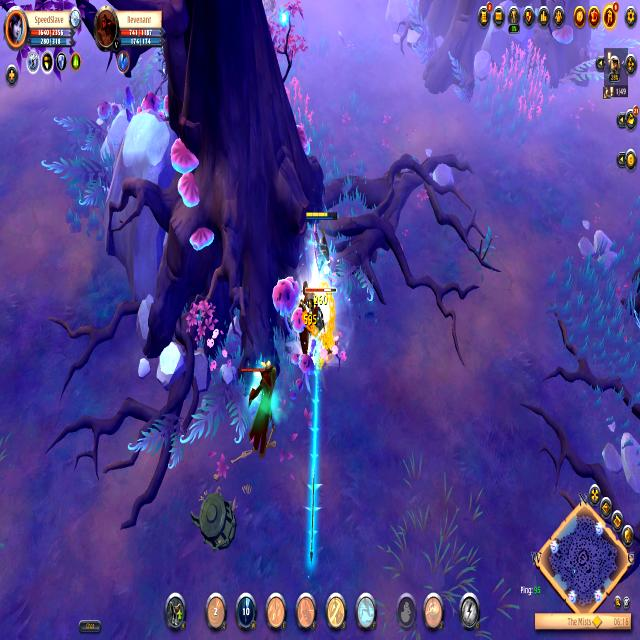ore: (296, 283, 346, 380), (234, 353, 280, 455)
red: (302, 205, 339, 289)
